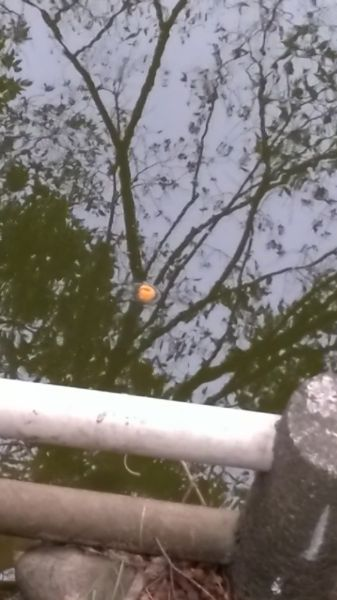eggs: (134, 279, 160, 304)
